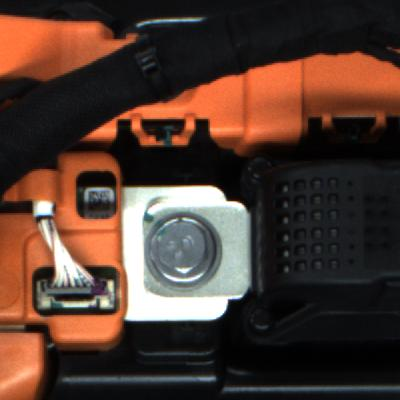nut_b: (140, 211, 231, 299)
